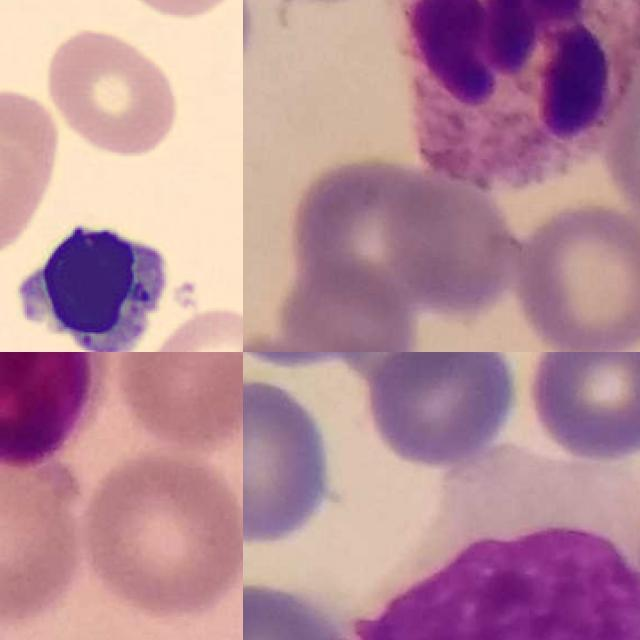Lymphocyte: (0, 210, 178, 352), (0, 352, 110, 472)
Monocyte: (341, 453, 640, 640)
Neutrophil: (391, 0, 640, 189)
RBC: (41, 26, 182, 160), (0, 87, 64, 265), (135, 300, 243, 352), (101, 0, 243, 24)
